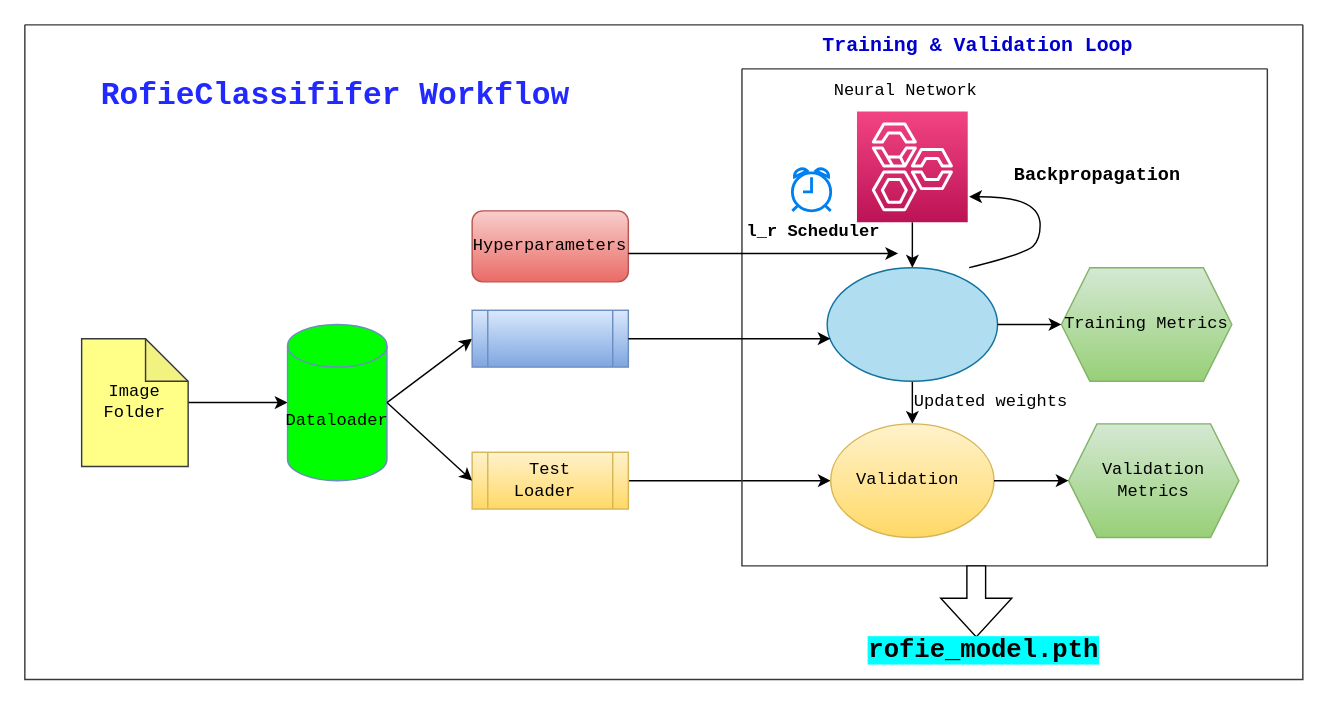
Image size: 1328x704. Some labels were removed from this diagram. Each missing label, with the centre of its shape:
Train Loader: pixel 549 338
Training: pixel 912 323
